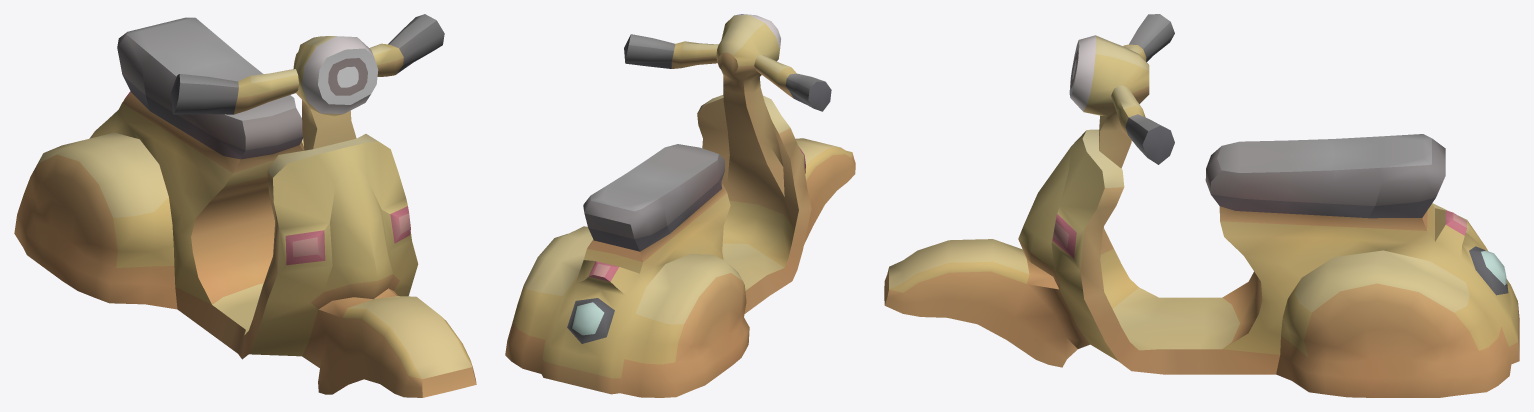
File: scooter_body.glb
3 views of the same model, side by side, from view 1: azimuth 30°, elevation 25°; view 2: azimuth 150°, elevation 25°; view 3: azimuth 270°, elevation 25° (orthographic). The views are drawn at different scales.
Parts seen in each view (by area): view 1: scooter_body; view 2: scooter_body; view 3: scooter_body.
Part boxes in pixels (box(x1,y1,x2,y2)): scooter_body: box(14, 14, 476, 397); scooter_body: box(505, 14, 855, 397); scooter_body: box(884, 14, 1519, 397).
Size of the model in its own units: 0.8463 by 1.01 by 1.87.
